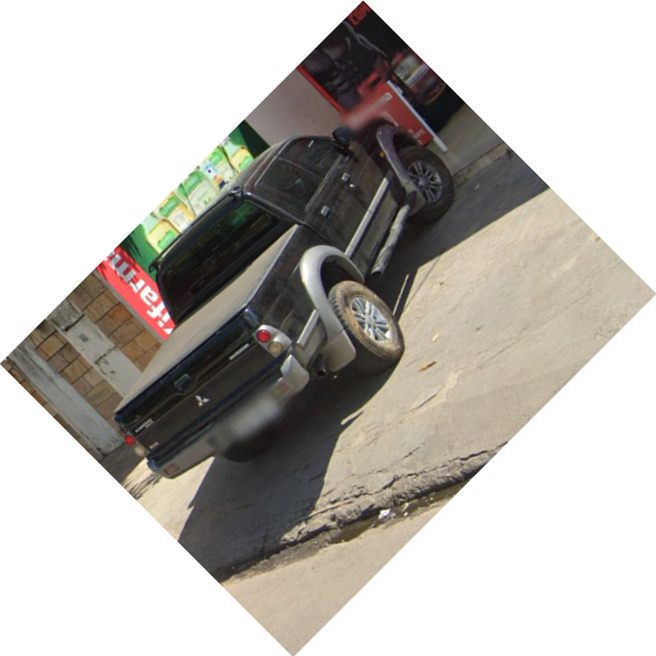car: (113, 114, 457, 482)
